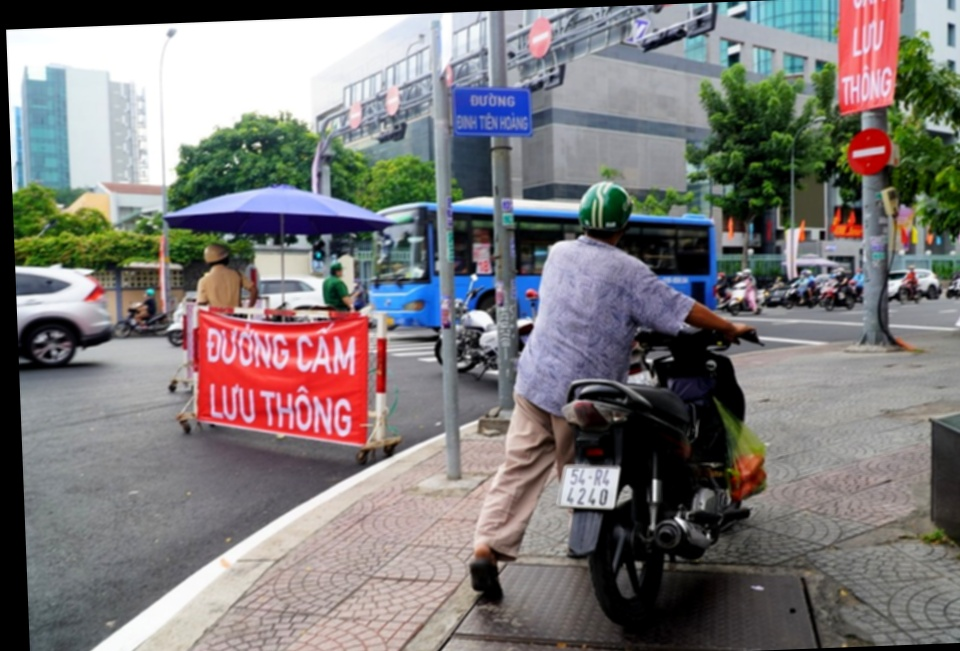Bien-so: (555, 463, 621, 510)
